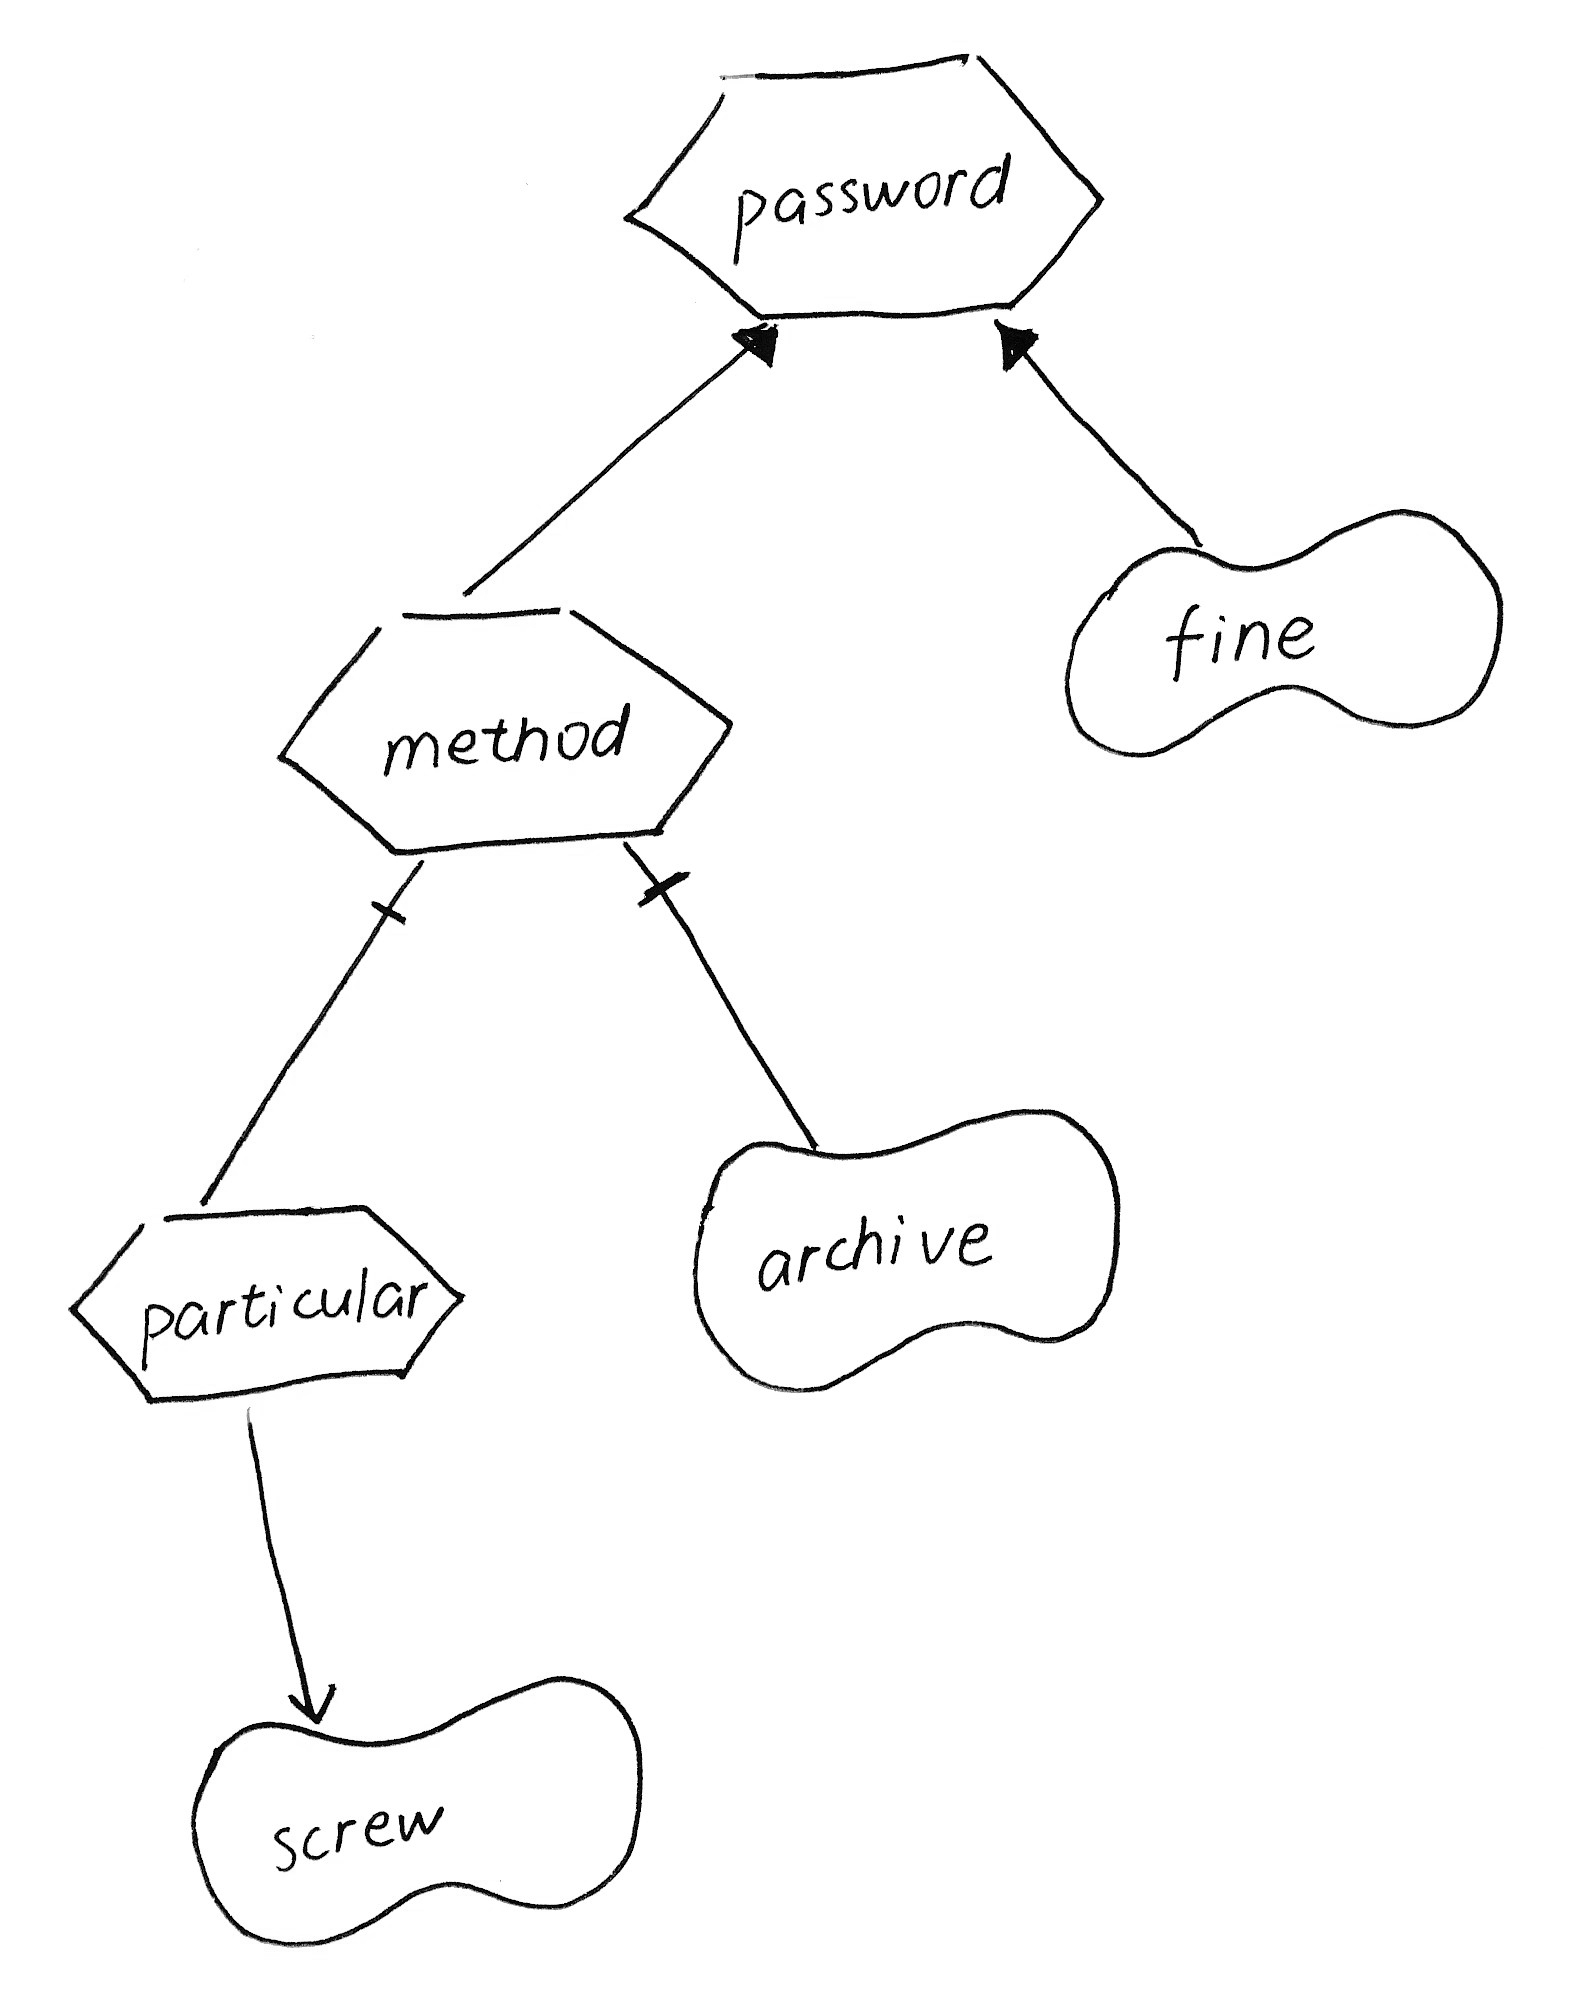and: (603, 820, 710, 921), (353, 841, 439, 942)
arrow: (274, 1668, 357, 1734)
or: (983, 300, 1062, 383), (717, 301, 793, 386)
quality: (172, 1652, 663, 1961), (671, 1088, 1145, 1409), (1048, 486, 1531, 775)
task: (608, 36, 1119, 345), (264, 592, 751, 870), (50, 1183, 482, 1422)
